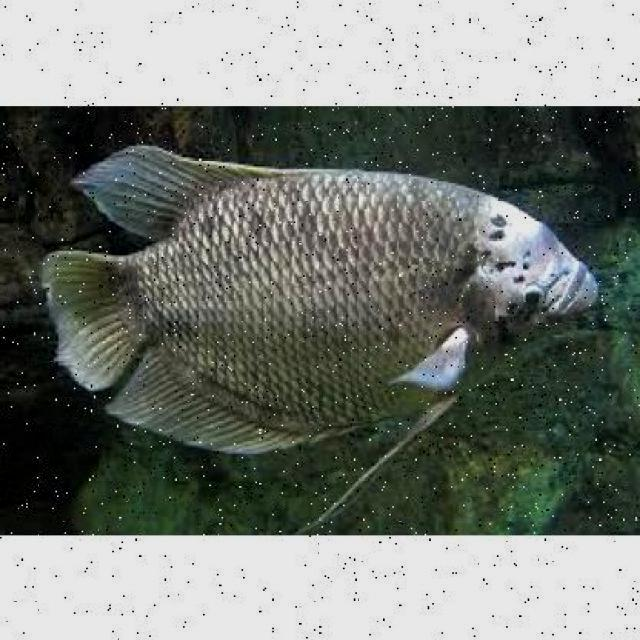gurame: (41, 153, 602, 459)
